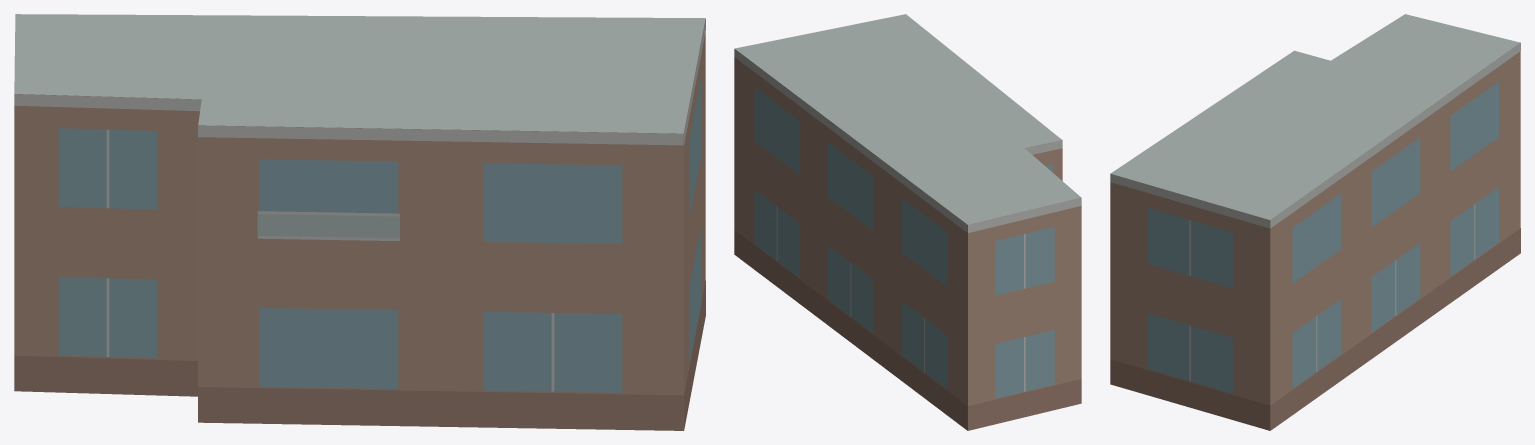
The model's file is survey-upis-32771619.glb.
3 views of the same model, side by side, from view 1: azimuth 30°, elevation 25°; view 2: azimuth 150°, elevation 25°; view 3: azimuth 270°, elevation 25° (orthographic). The views are drawn at different scales.
Visible parts, largest first — view 1: survey-upis-32771619.tmp; view 2: survey-upis-32771619.tmp; view 3: survey-upis-32771619.tmp.
Boxes of the visible parts, x1,y1,x2,y2 form: survey-upis-32771619.tmp: (14,14,705,430); survey-upis-32771619.tmp: (734,14,1081,430); survey-upis-32771619.tmp: (1110,14,1520,430).
Bounding box in the file's own units: 12.81 × 6.1 × 10.78.
